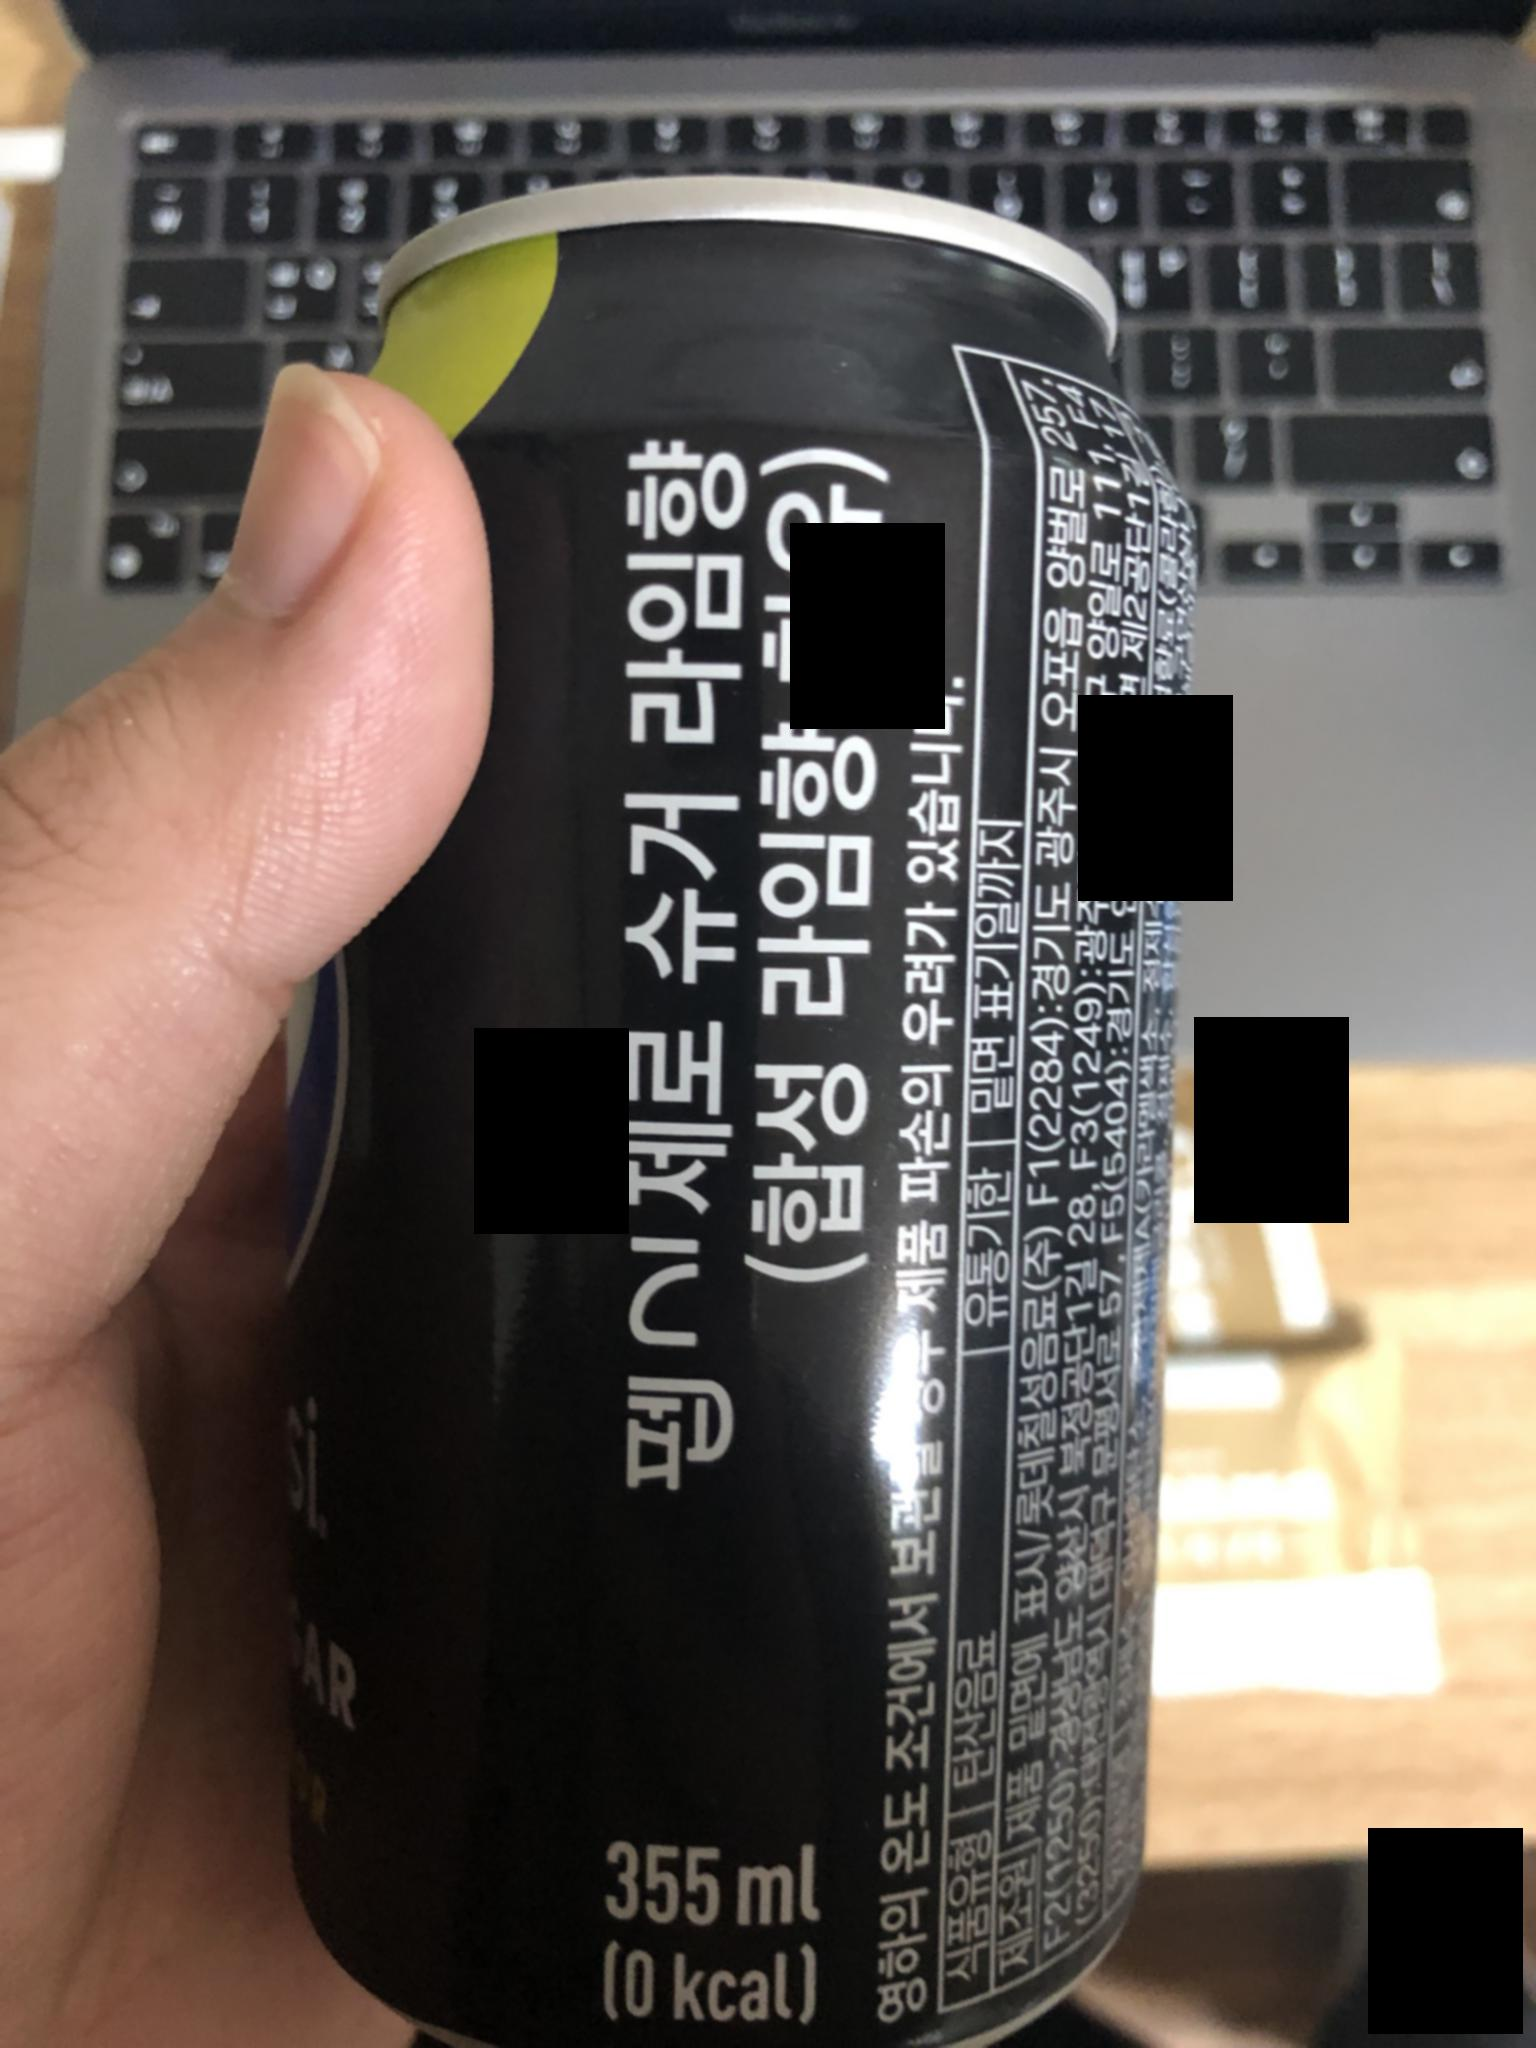pepsi_zero: (134, 111, 1312, 2046)
